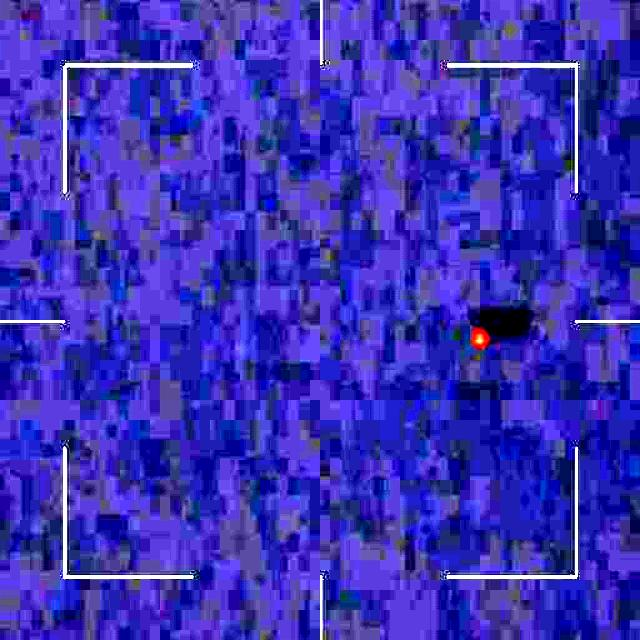bird: (471, 318, 496, 359)
